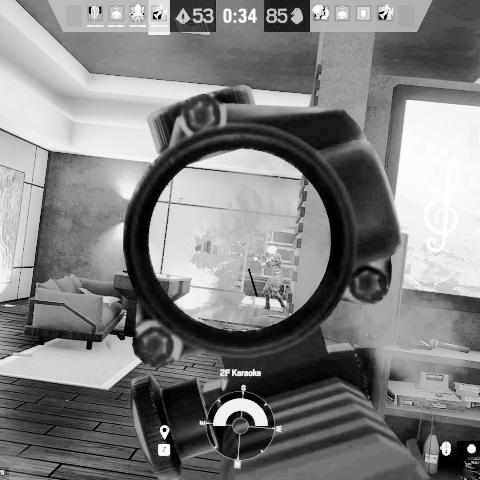Character: (253, 243, 289, 311)
Head: (266, 245, 278, 257)
